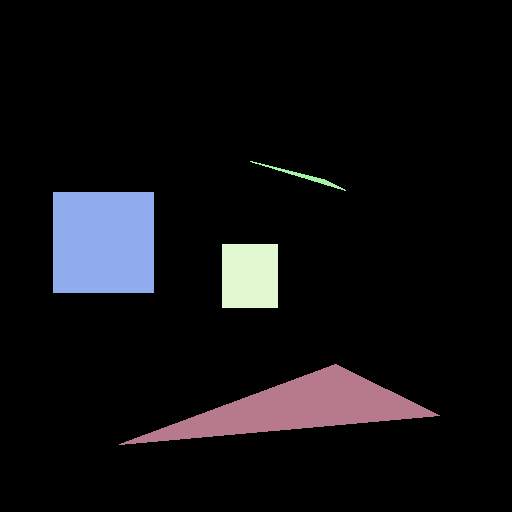rectangle: (222, 244, 277, 307)
square: (53, 192, 153, 292)
triangle: (119, 364, 439, 444), (250, 161, 345, 190)
